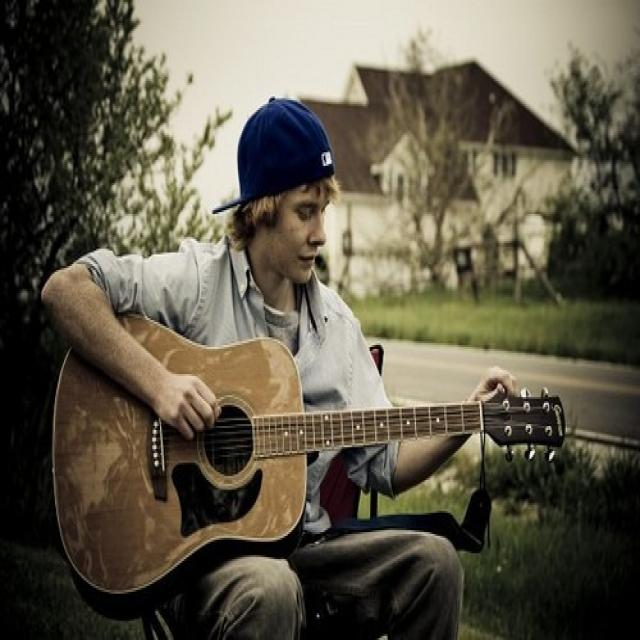guitar: (54, 310, 565, 605)
